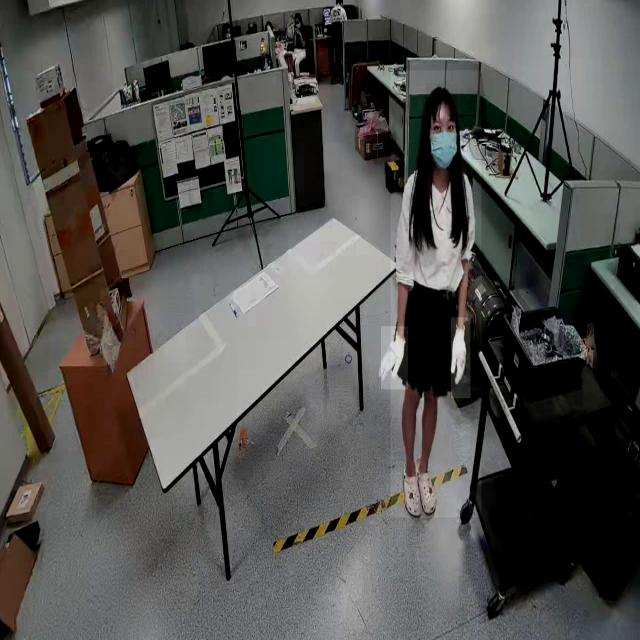face_mask: (428, 118, 458, 171), (295, 18, 301, 28)
hand_glove: (381, 326, 409, 390), (451, 317, 471, 399)
head_nohelmet: (426, 84, 458, 118), (294, 12, 301, 18)
person: (390, 70, 482, 518), (286, 12, 310, 71)
